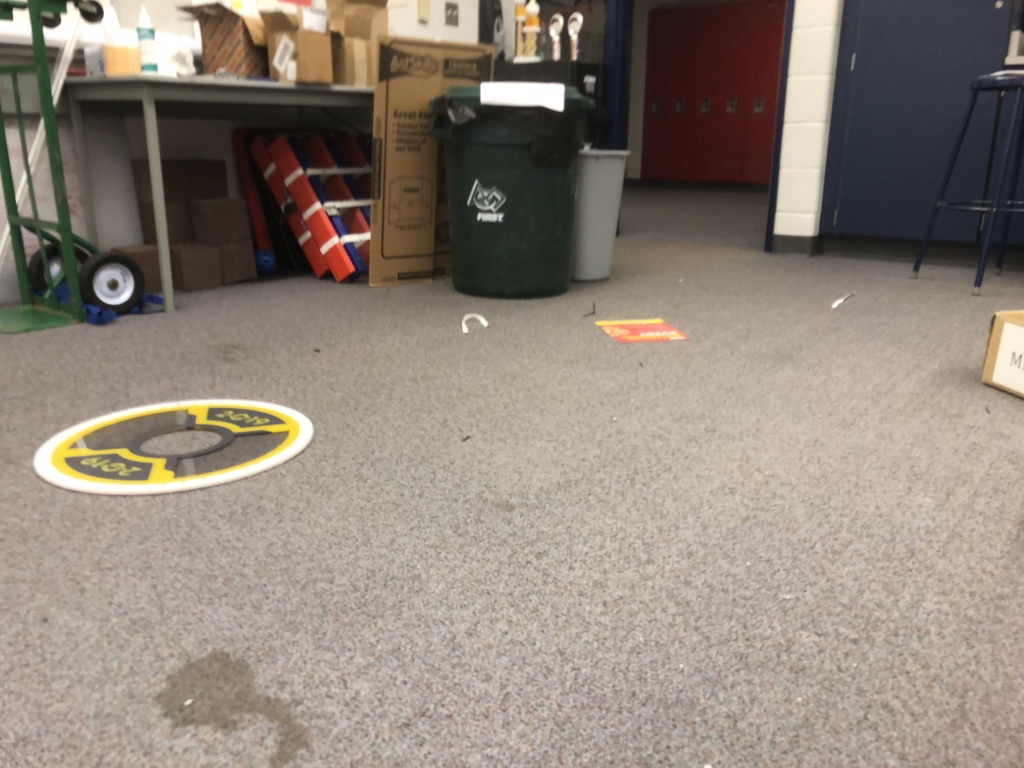hatch_panel: (9, 387, 328, 501)
